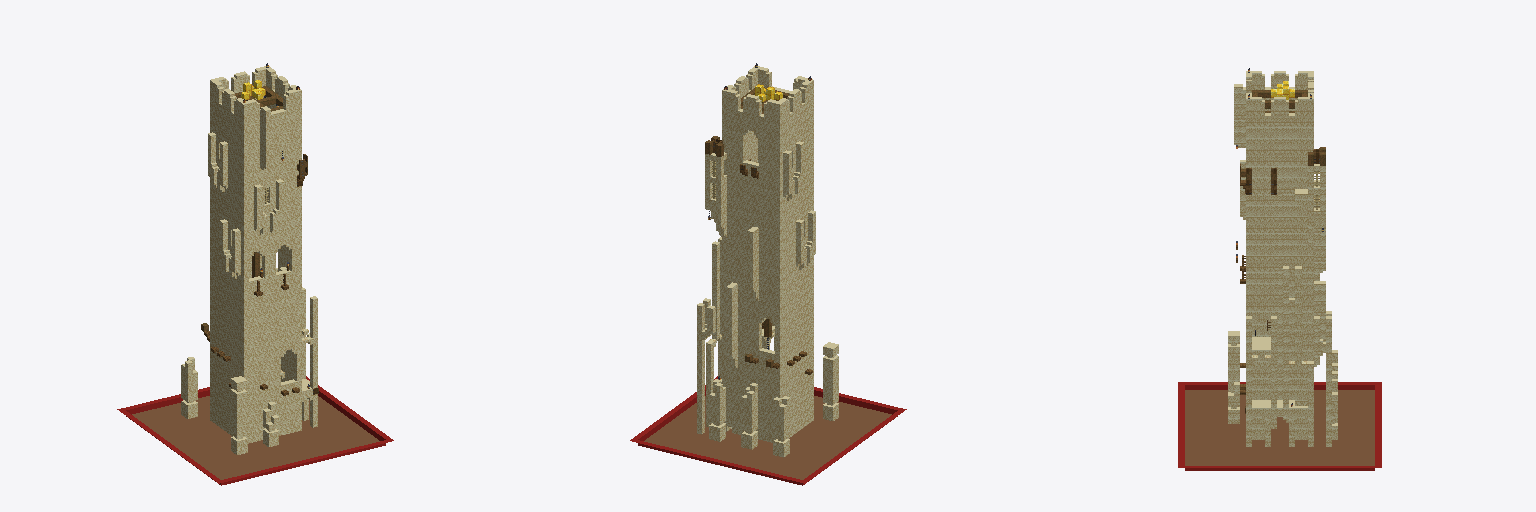
3 renders of one model, left to right at view 1: azimuth 30°, elevation 25°; view 2: azimuth 150°, elevation 25°; view 3: azimuth 270°, elevation 25°, orthographic.
Bounding box in the file's own units: 33 × 62.69 × 33.
Materials: 13 (10 with a texture image).